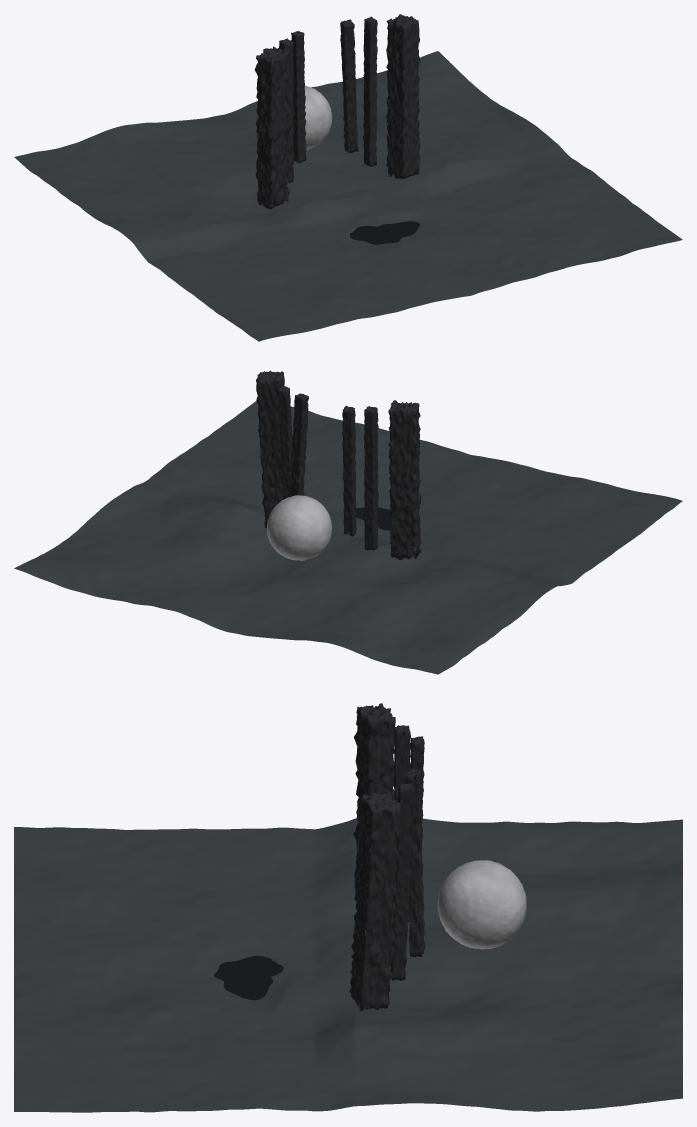
Rendered from moon_pond_web.glb.
3 renders of one model, top to bottom at view 1: azimuth 30°, elevation 25°; view 2: azimuth 150°, elevation 25°; view 3: azimuth 270°, elevation 25°, orthographic. The views are drawn at different scales.
Parts seen in each view (by area): view 1: Terrain_web, Monolith_6_web, Monolith_1_web, Monolith_5_web, Monolith_4_web, Monolith_3_web, Moon_web, Pond_Water_web, Monolith_2_web; view 2: Terrain_web, Monolith_1_web, Moon_web, Monolith_6_web, Monolith_2_web, Monolith_3_web, Monolith_4_web, Monolith_5_web; view 3: Terrain_web, Monolith_6_web, Moon_web, Monolith_1_web, Monolith_5_web, Monolith_4_web, Pond_Water_web, Monolith_2_web.
Boxes of the visible parts, box(x1,y1,x2,y2) form: Terrain_web: box(14, 51, 682, 341); Monolith_6_web: box(386, 14, 420, 179); Monolith_1_web: box(254, 46, 289, 209); Monolith_5_web: box(363, 16, 377, 166); Monolith_4_web: box(340, 19, 358, 153); Monolith_3_web: box(291, 31, 306, 163); Moon_web: box(304, 86, 332, 149); Pond_Water_web: box(350, 221, 419, 244); Monolith_2_web: box(279, 38, 294, 182); Terrain_web: box(14, 401, 682, 674); Monolith_1_web: box(388, 400, 421, 560); Moon_web: box(267, 495, 332, 560); Monolith_6_web: box(256, 370, 284, 528); Monolith_2_web: box(363, 406, 378, 550); Monolith_3_web: box(342, 405, 356, 536); Monolith_4_web: box(289, 393, 308, 496); Monolith_5_web: box(278, 386, 292, 499); Terrain_web: box(14, 818, 682, 1112); Monolith_6_web: box(349, 791, 401, 1011); Moon_web: box(437, 860, 526, 949); Monolith_1_web: box(353, 703, 395, 889); Monolith_5_web: box(390, 783, 413, 980); Monolith_4_web: box(406, 768, 425, 957); Pond_Water_web: box(214, 955, 283, 1000); Monolith_2_web: box(393, 725, 410, 921).
Size of the model in its own units: 50 by 18.72 by 50.
9 materials, 1 textured.
